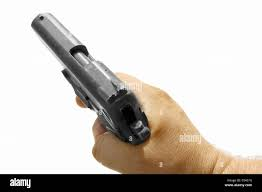gun: (29, 11, 186, 168)
